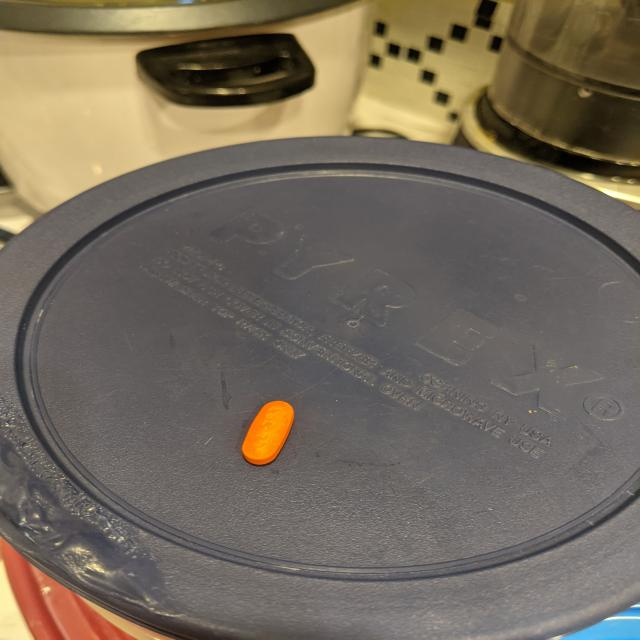non-organic waste: (240, 400, 296, 466)
